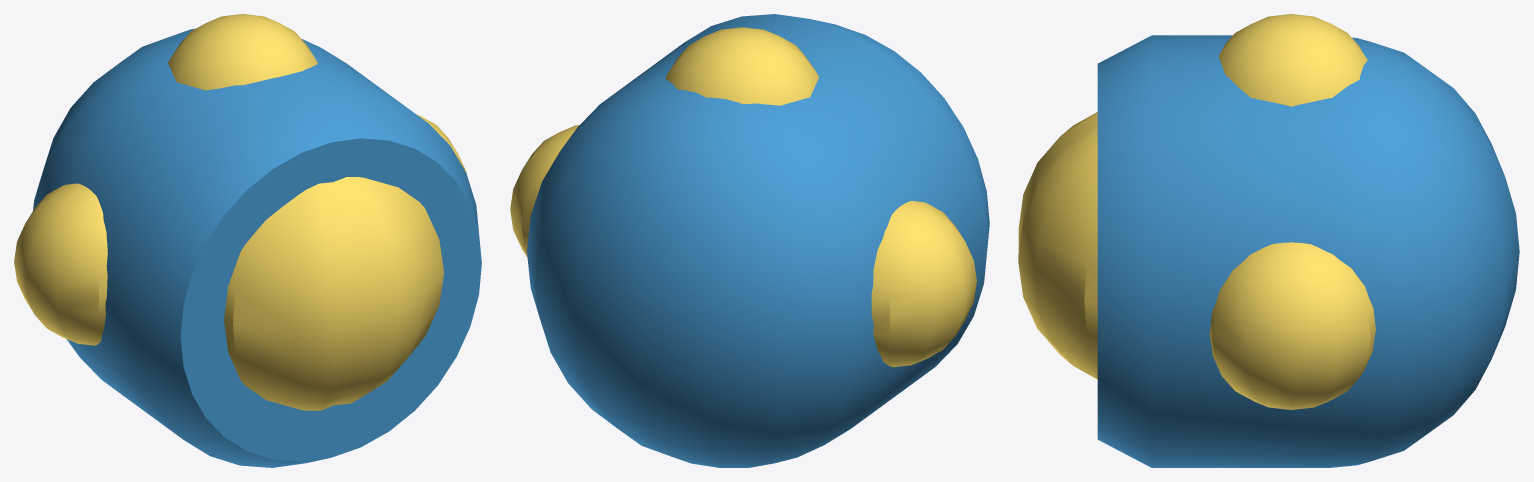
The model's file is laser2.fbx.
The picture shows the model from 3 angles, left to right: view 1: azimuth 30°, elevation 25°; view 2: azimuth 150°, elevation 25°; view 3: azimuth 270°, elevation 25°; orthographic projection. The views are drawn at different scales.
Parts seen in each view (by area): view 1: Sphere; view 2: Sphere; view 3: Sphere.
Part boxes in pixels (x1=…): Sphere: x1=14, y1=14, x2=481, y2=467; Sphere: x1=510, y1=14, x2=989, y2=467; Sphere: x1=1018, y1=14, x2=1519, y2=467.
Size of the model in its own units: 1.7 by 1.48 by 1.58.
